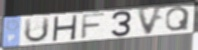3: (110, 9, 134, 38)
F: (79, 12, 107, 40)
H: (51, 14, 79, 41)
Q: (164, 6, 191, 32)
U: (23, 16, 51, 44)
V: (135, 6, 165, 36)
